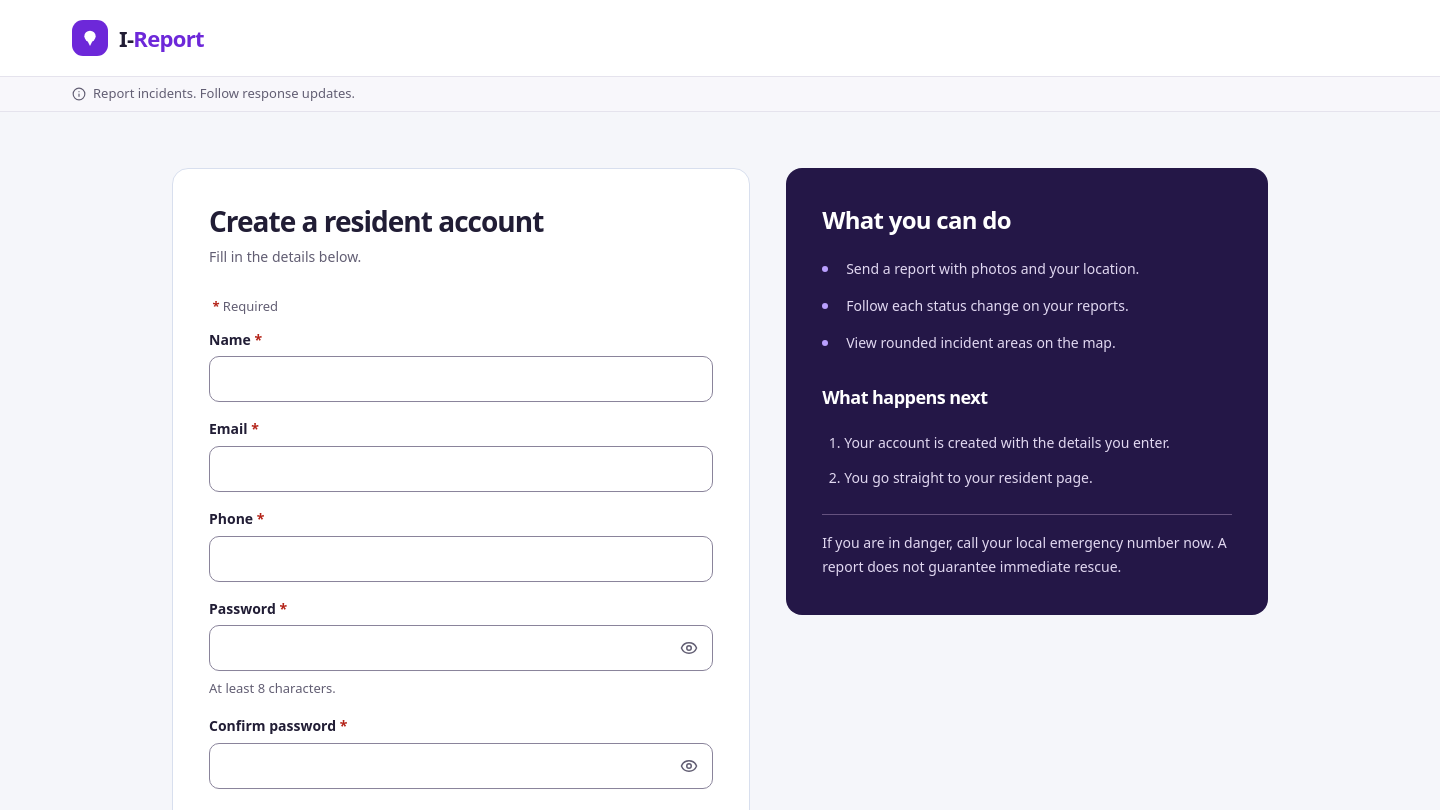
Test case: ResidentSignUp › keeps the password hint linked and clears an error once the field is valid
Step 1. Type "Ana Cruz" into the field labelled "Name" → coordinates (461, 379), box x1=209 y1=356 x2=713 y2=402
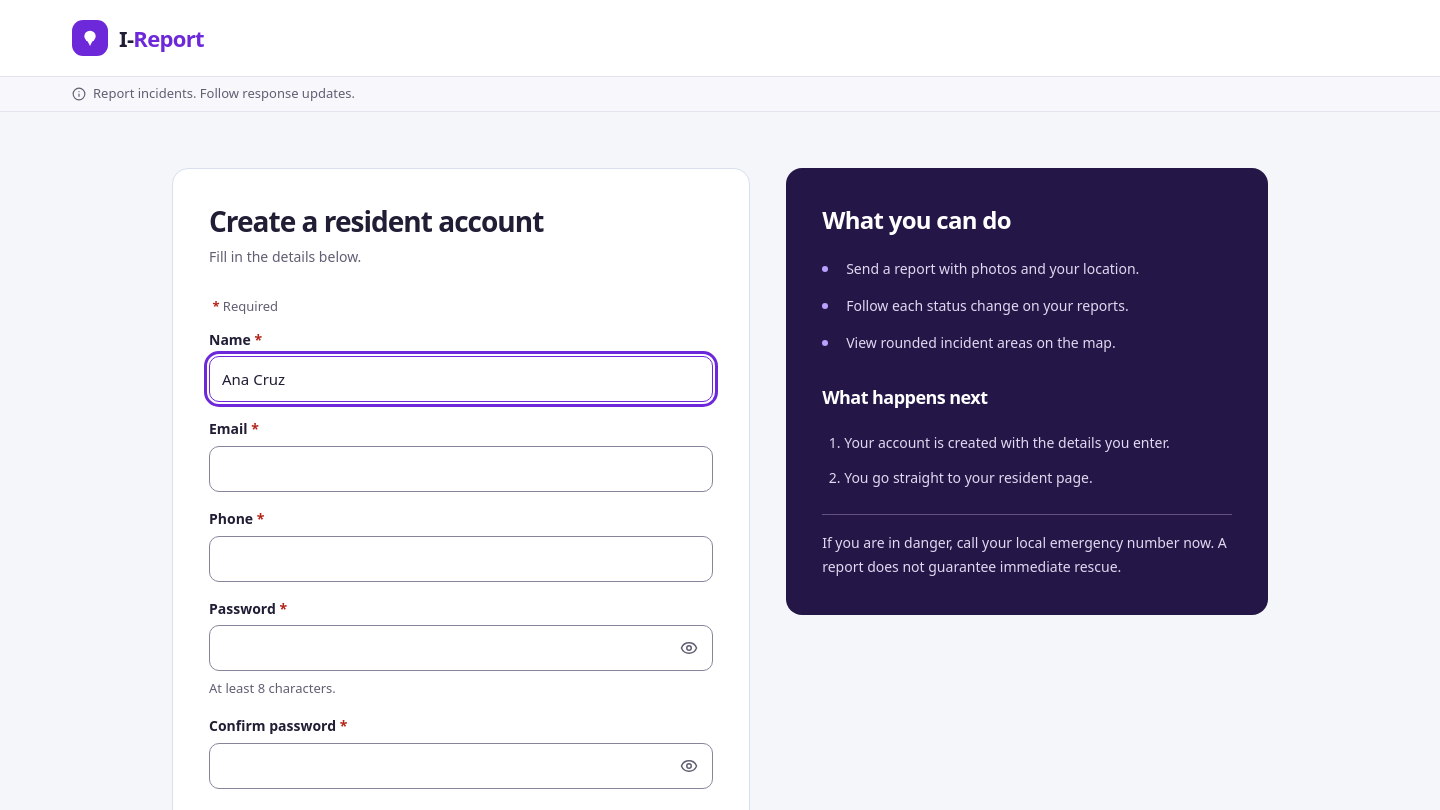
Step 2. Type "ana@example.com" into the field labelled "Email" → coordinates (461, 469), box x1=209 y1=446 x2=713 y2=492
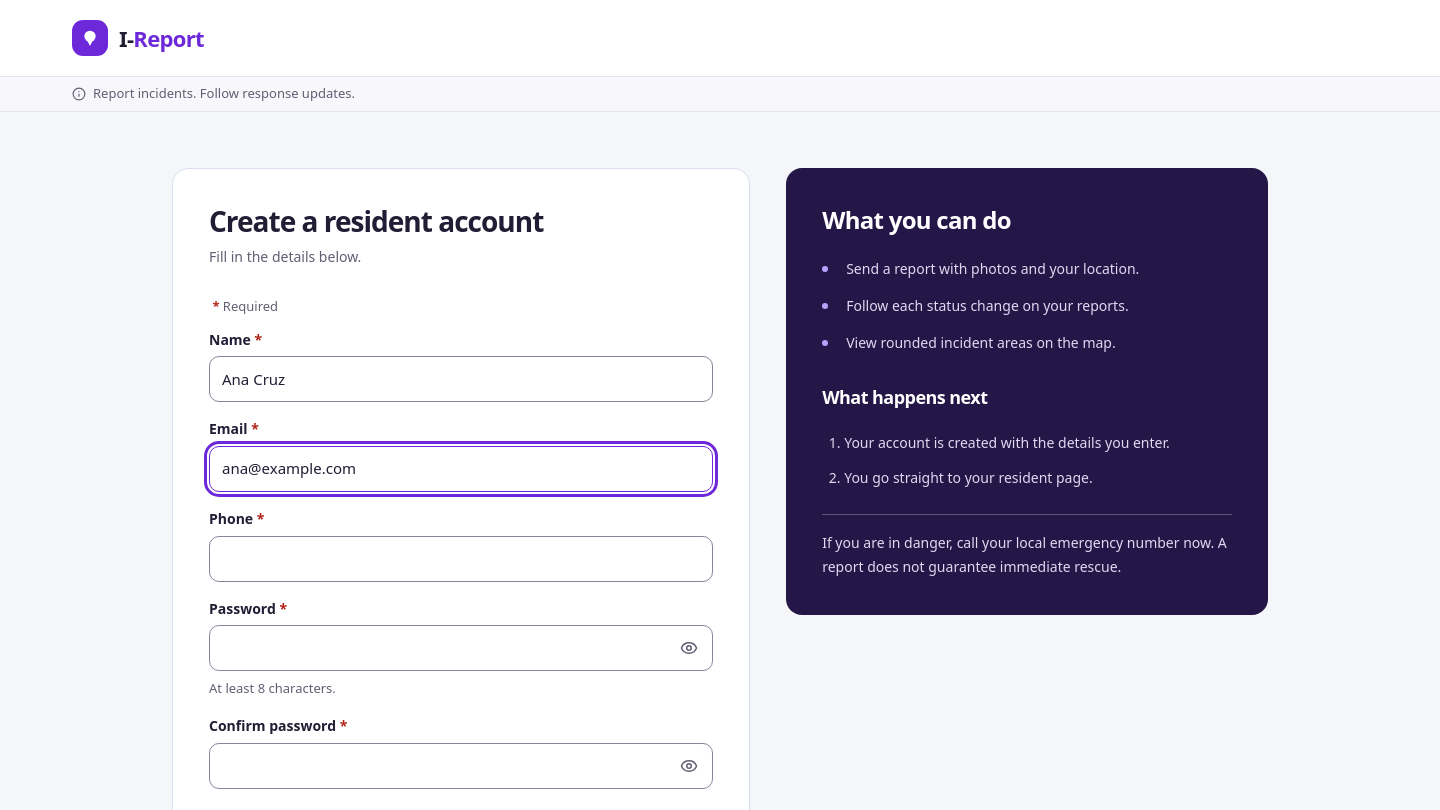
Step 3. Type "0917 000 0001" into the field labelled "Phone" → coordinates (461, 559), box x1=209 y1=536 x2=713 y2=582
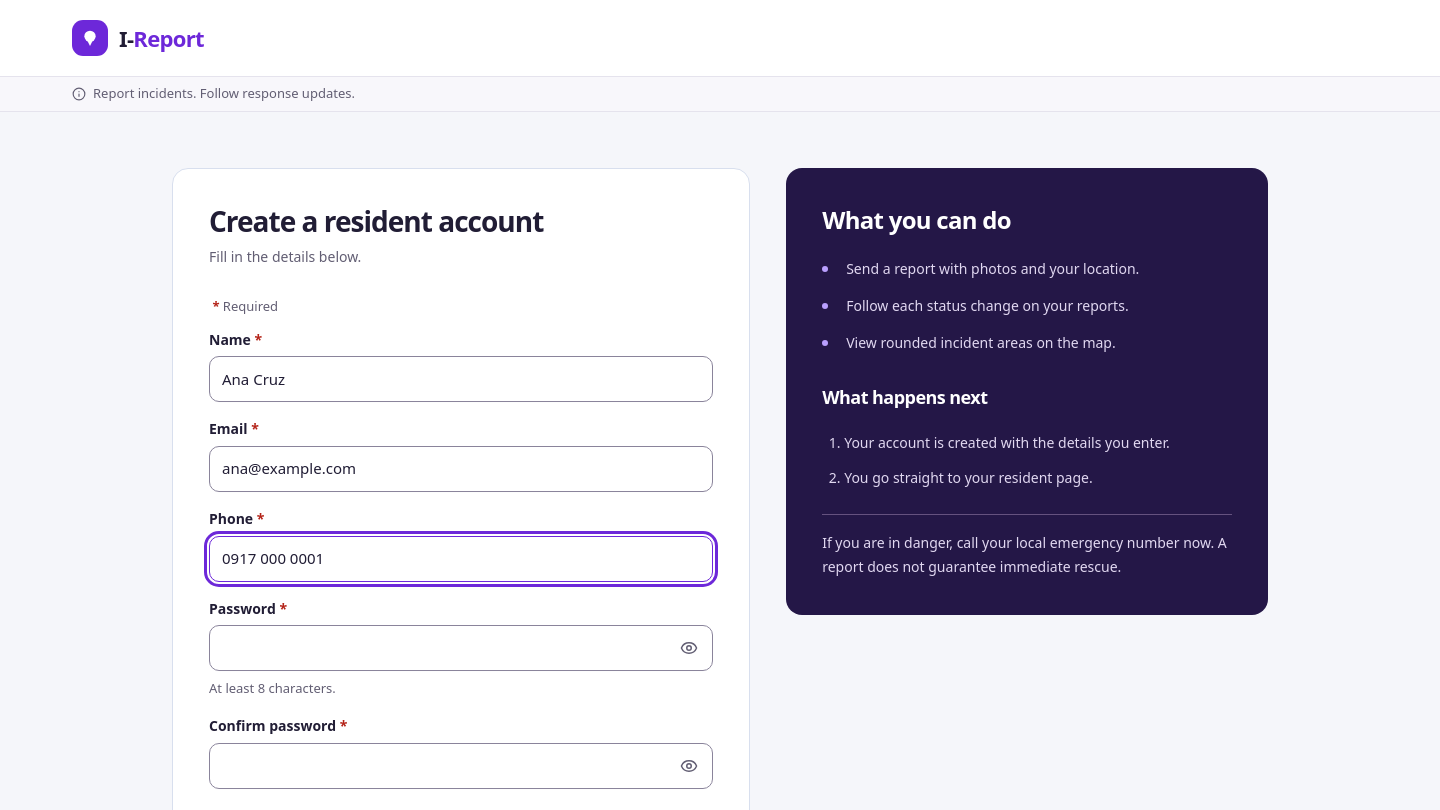
Step 4. Type "short" into the password field labelled "Password" → coordinates (461, 648), box x1=209 y1=625 x2=713 y2=671
(page scrolled)
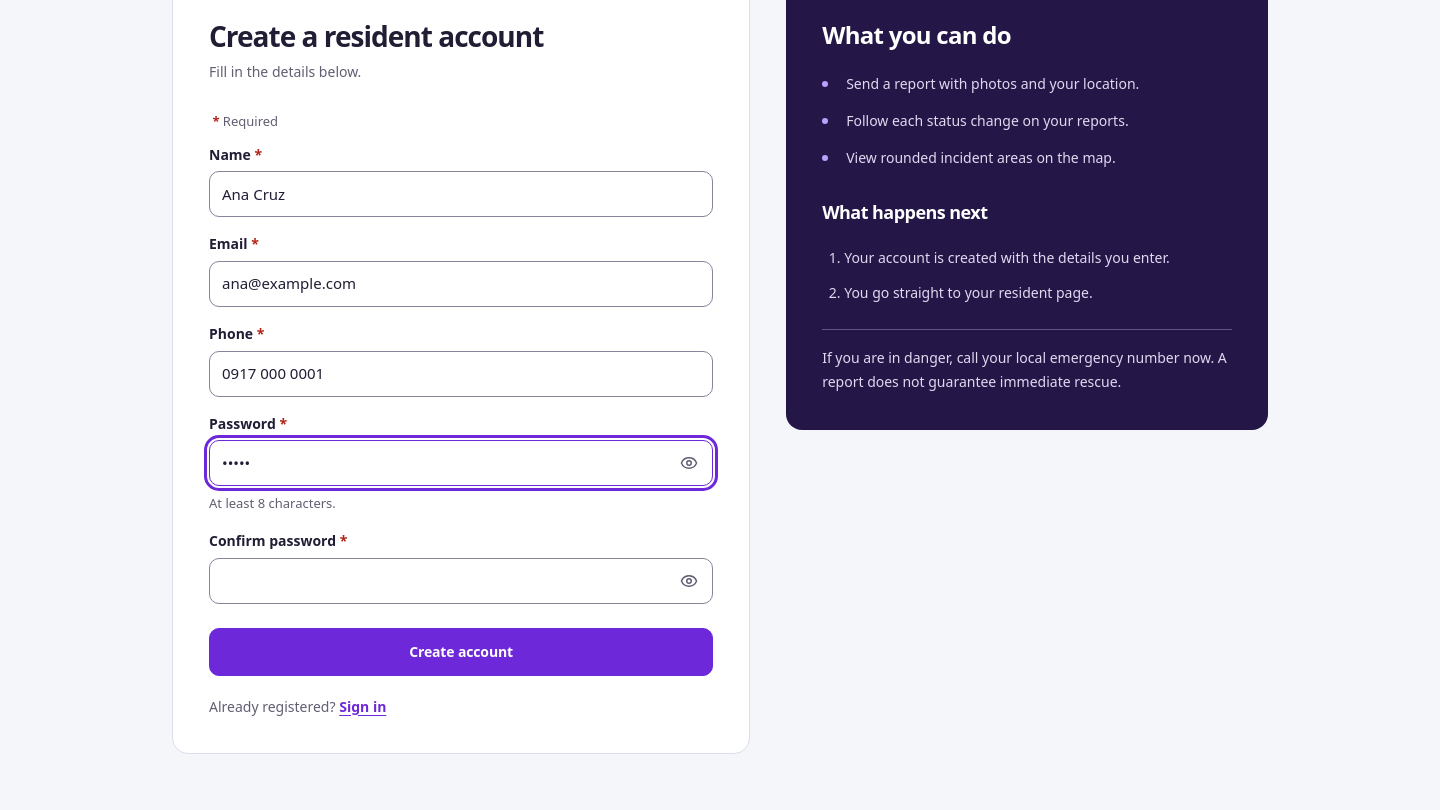
Step 5. Click the button "Create account" → coordinates (461, 652), box x1=209 y1=628 x2=713 y2=676
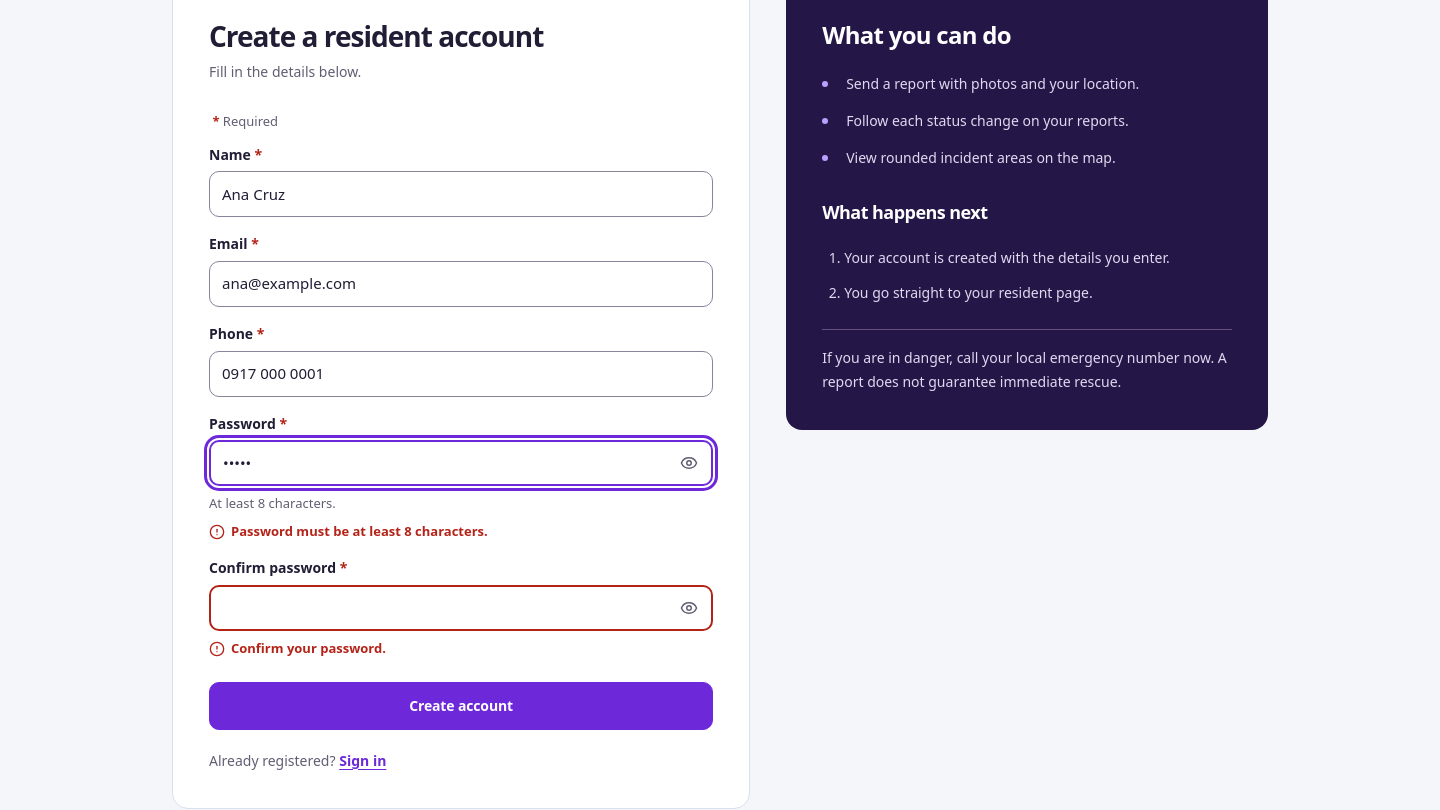
Check: the text "Password must be at least 8 characters." is shown, box x1=209 y1=522 x2=488 y2=540
